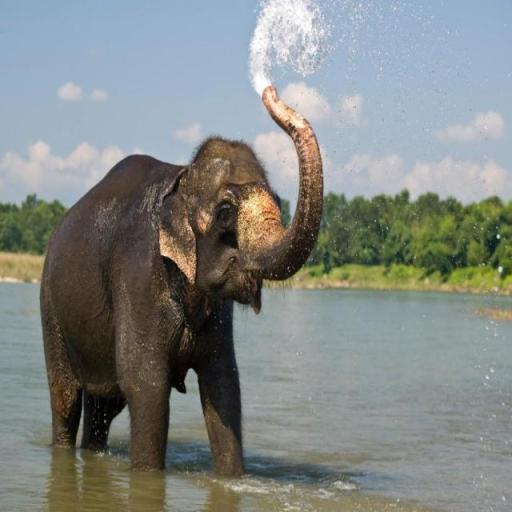Elephant: (38, 84, 324, 478)
